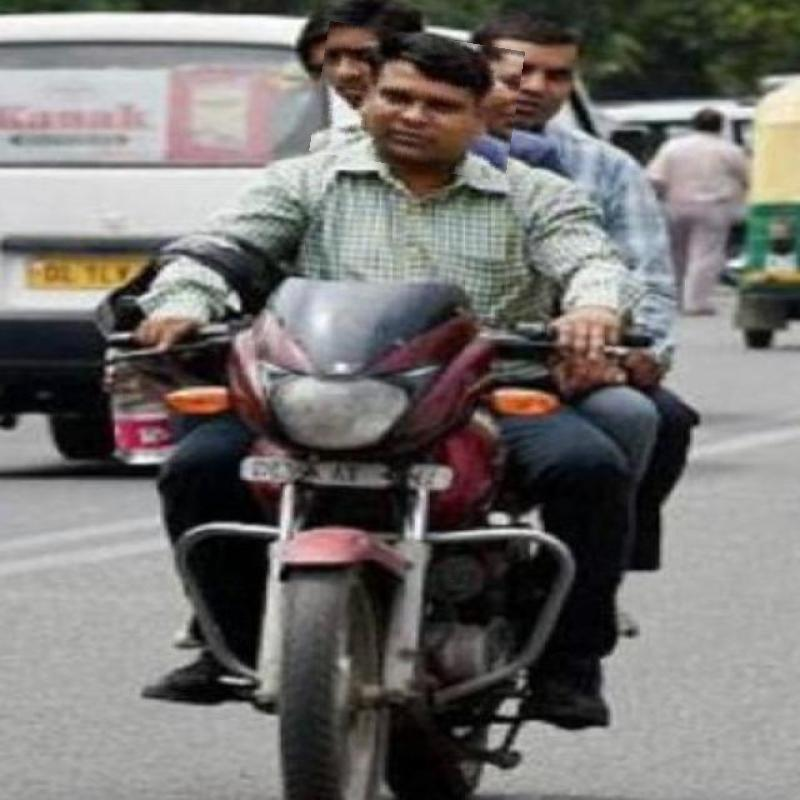nohelmet: (314, 29, 520, 176)
